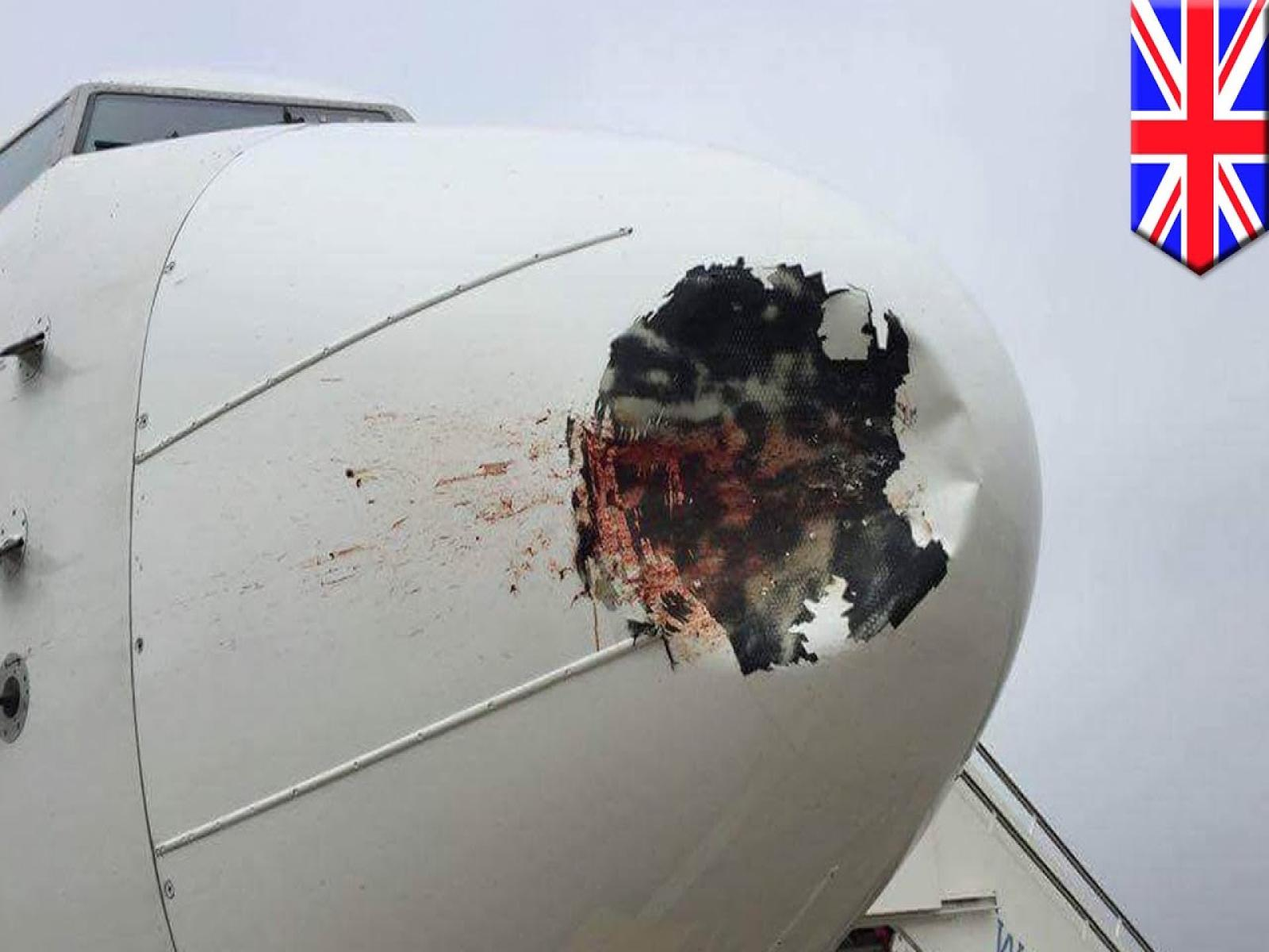Fuselage_damage: (571, 258, 947, 674)
